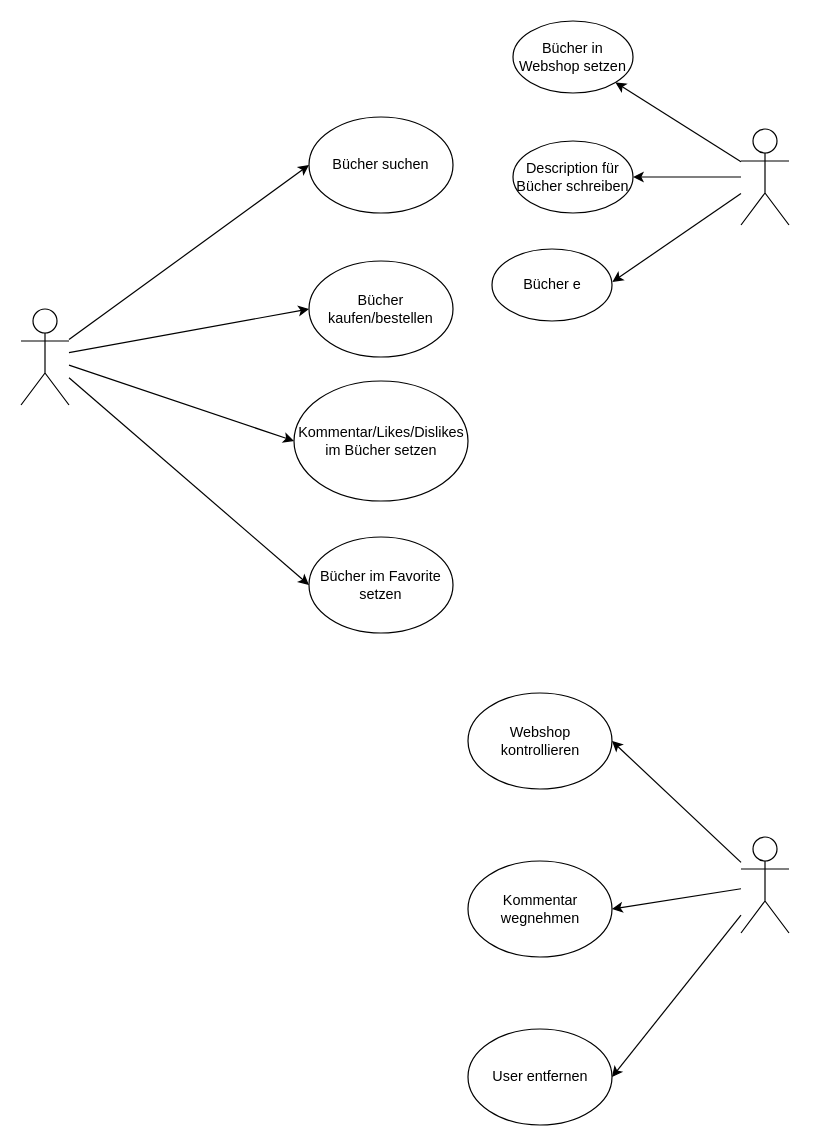
Some shapes in this 814 by 1146 pixel diagram are drawn without their labels. Here are the shapes that lost their labels. From the top down, the centre of each, then its label:
At pixel 764 176: "Autor".
At pixel 44 356: "User".
At pixel 764 884: "Manager".
